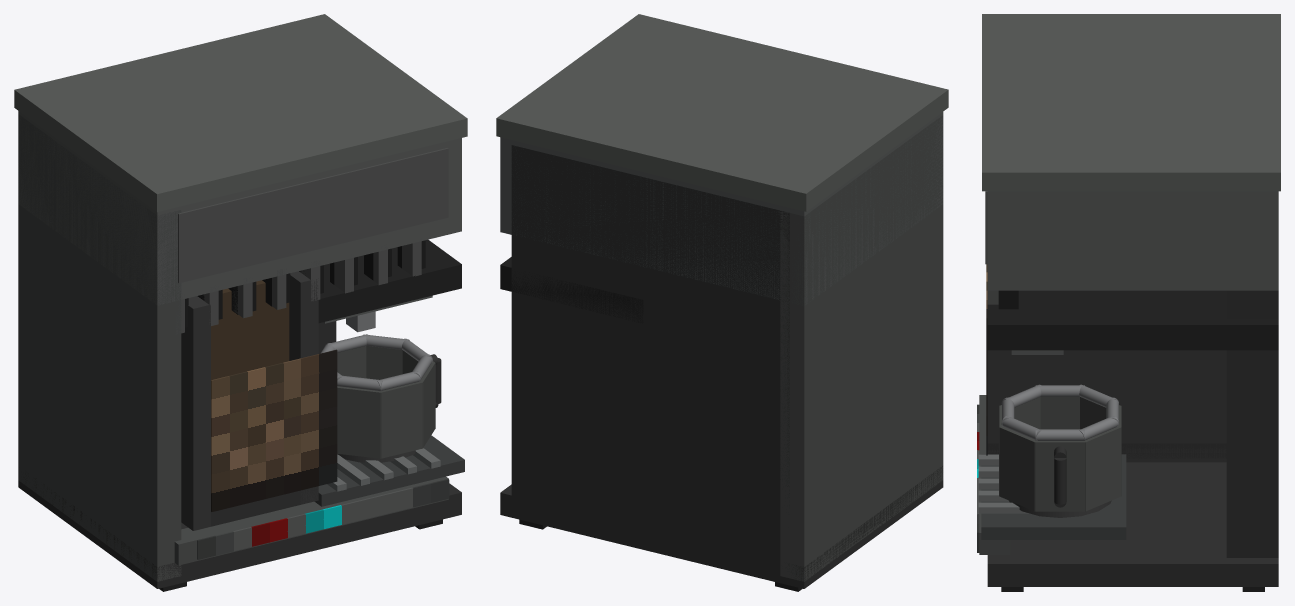
The model's file is CMU3DCoffeeMachineCloud.glb.
3 views of the same model, side by side, from view 1: azimuth 30°, elevation 25°; view 2: azimuth 150°, elevation 25°; view 3: azimuth 270°, elevation 25° (orthographic). The views are drawn at different scales.
Parts seen in each view (by area): view 1: left full height side, separate top cover, top hopper housing, hopper front inset, original coarse bean window, low machine deck, bean reservoir left frame, original red cyan indicator row, dispensing bay roof, source brown reservoir volume, cup tray, cup wall facet 06 (+10 smaller); view 2: machine rear cabinet, left full height side, separate top cover, top hopper housing, low machine deck, dispensing bay roof; view 3: separate top cover, top hopper housing, low machine deck, bean reservoir right frame, dispensing bay roof, machine rear cabinet, cup tray, cup wall facet 01, cup wall facet 08, cup wall facet 02, bean reservoir bottom, cup wall facet 05 (+12 smaller).
Boxes of the visible parts, x1=… form: left full height side: x1=18, y1=114, x2=181, y2=581; separate top cover: x1=14, y1=14, x2=467, y2=212; top hopper housing: x1=18, y1=111, x2=461, y2=305; hopper front inset: x1=178, y1=148, x2=448, y2=283; original coarse bean window: x1=211, y1=349, x2=337, y2=511; low machine deck: x1=18, y1=467, x2=461, y2=588; bean reservoir left frame: x1=181, y1=296, x2=210, y2=530; original red cyan indicator row: x1=197, y1=479, x2=449, y2=559; dispensing bay roof: x1=318, y1=239, x2=461, y2=323; source brown reservoir volume: x1=211, y1=280, x2=289, y2=379; cup tray: x1=314, y1=435, x2=464, y2=506; cup wall facet 06: x1=337, y1=386, x2=382, y2=458; machine rear cabinet: x1=511, y1=145, x2=789, y2=560; left full height side: x1=780, y1=116, x2=943, y2=581; separate top cover: x1=496, y1=14, x2=948, y2=211; top hopper housing: x1=500, y1=112, x2=943, y2=305; low machine deck: x1=500, y1=466, x2=943, y2=588; dispensing bay roof: x1=500, y1=257, x2=643, y2=323; separate top cover: x1=982, y1=14, x2=1280, y2=191; top hopper housing: x1=987, y1=191, x2=1278, y2=290; low machine deck: x1=987, y1=462, x2=1278, y2=586; bean reservoir right frame: x1=987, y1=350, x2=1226, y2=462; dispensing bay roof: x1=987, y1=290, x2=1278, y2=350; machine rear cabinet: x1=1226, y1=290, x2=1278, y2=557; cup tray: x1=981, y1=454, x2=1126, y2=539; cup wall facet 01: x1=1034, y1=440, x2=1085, y2=511; cup wall facet 08: x1=999, y1=427, x2=1035, y2=511; cup wall facet 02: x1=1085, y1=427, x2=1121, y2=511; bean reservoir bottom: x1=987, y1=443, x2=1226, y2=460; cup wall facet 05: x1=1040, y1=396, x2=1079, y2=429.
Size of the model in its own units: 0.5593 by 0.68 by 0.438.
Materials: 17 (2 with a texture image).
